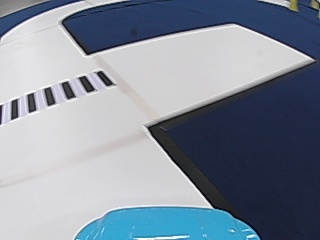CrossWalk: (6, 71, 109, 119)
